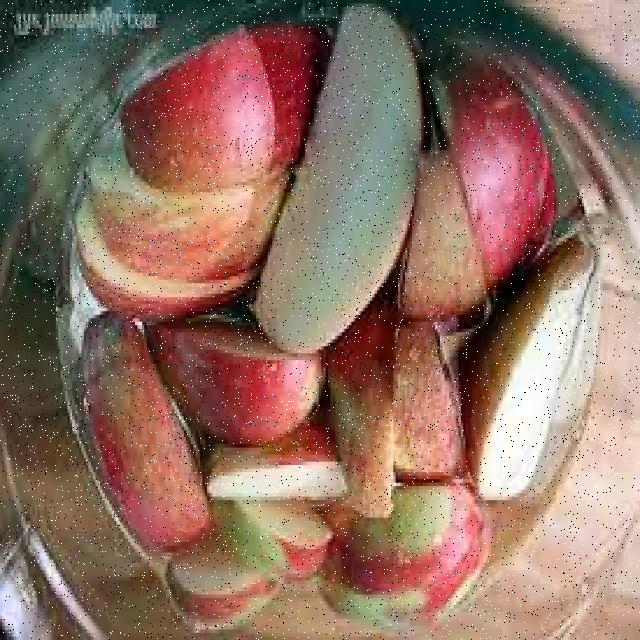Apple: (252, 20, 420, 351), (470, 244, 607, 501), (123, 25, 318, 184), (447, 56, 555, 292), (85, 325, 194, 554), (85, 165, 278, 293), (319, 484, 487, 624), (160, 323, 317, 435), (338, 322, 401, 509), (202, 434, 350, 494), (166, 561, 278, 631), (220, 512, 332, 577)
